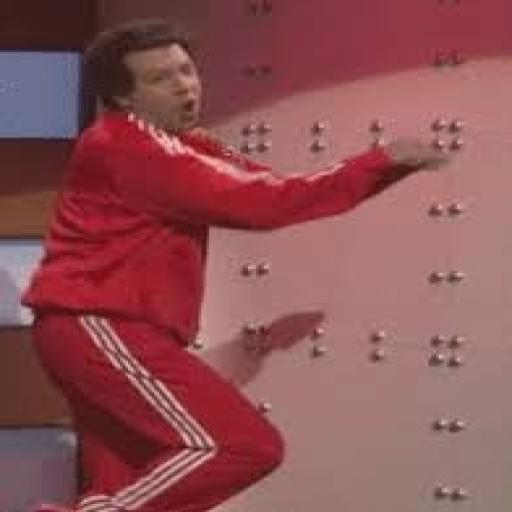dancing: (16, 16, 462, 510)
